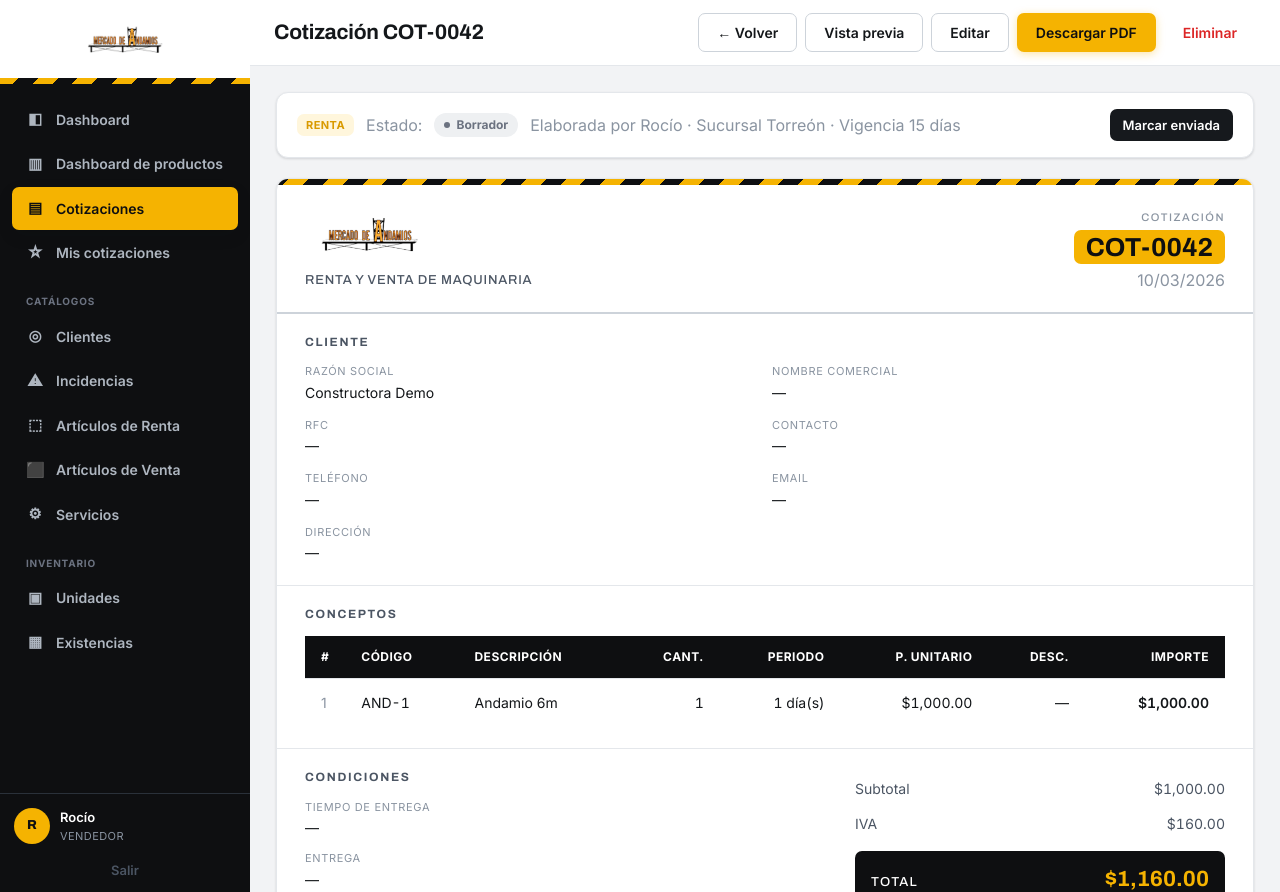
Test: CotizacionDetalle — Borrador › al hacer clic en "Marcar enviada" cambia el estatus y aparecen los botones de decisión
Click the button "Marcar enviada" at (1171, 125), box [1110,109,1233,141]
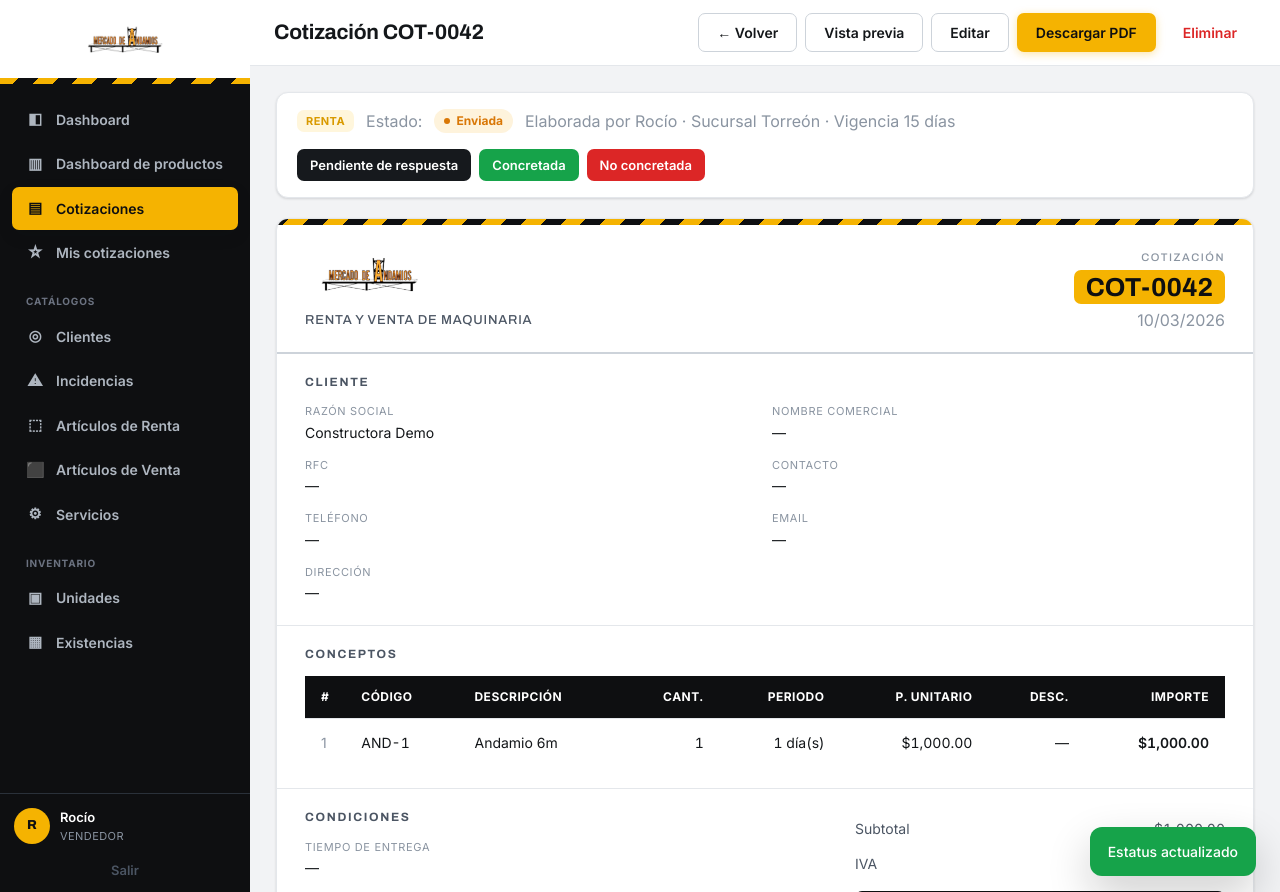
expect the text "Enviada" is shown: met, box [434,109,513,133]
expect the button "Concretada" is shown: met, box [479,149,579,181]
expect the text "Estatus actualizado" is shown: met, box [1090,827,1256,876]
